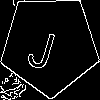J: (24, 20, 61, 72)
